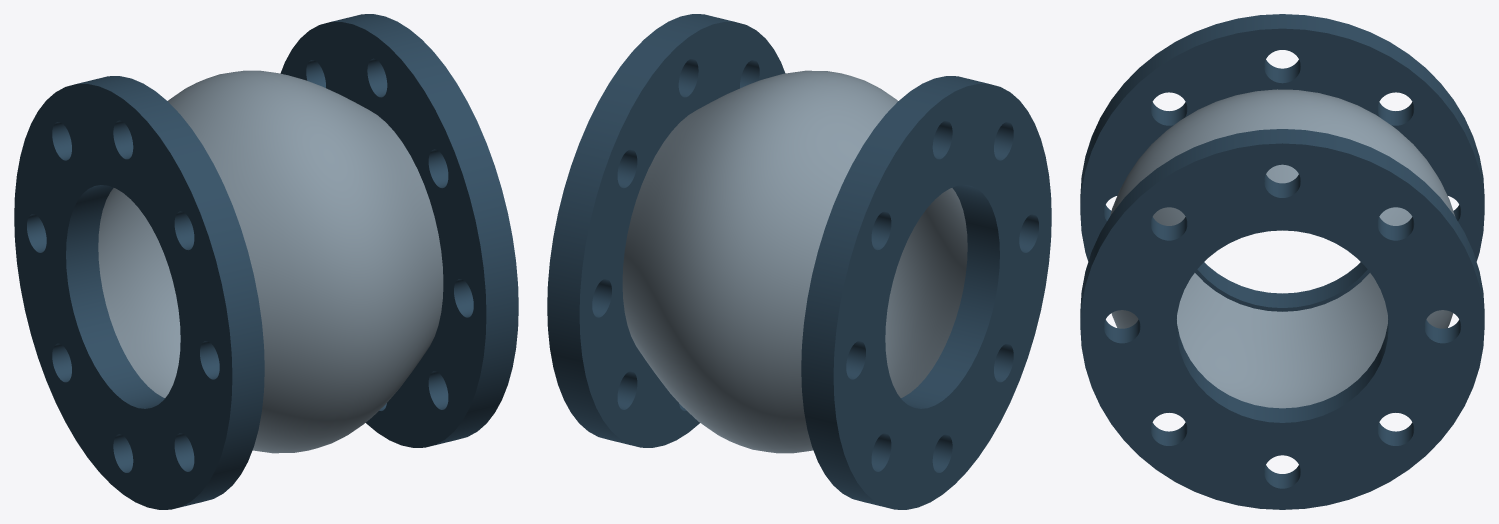
The picture shows the model from 3 angles, left to right: view 1: azimuth 30°, elevation 25°; view 2: azimuth 150°, elevation 25°; view 3: azimuth 270°, elevation 25°; orthographic projection. The views are drawn at different scales.
Visible parts, largest first — view 1: rebro_vstavka_rezina, homut_flanec_1, homut_flanec_2; view 2: rebro_vstavka_rezina, homut_flanec_1, homut_flanec_2; view 3: homut_flanec_2, homut_flanec_1, rebro_vstavka_rezina.
Part boxes in pixels (x1,y1,x2,y2): rebro_vstavka_rezina: (98,70,443,453); homut_flanec_1: (14,76,264,509); homut_flanec_2: (280,14,518,447); rebro_vstavka_rezina: (622,70,967,453); homut_flanec_1: (801,76,1051,509); homut_flanec_2: (547,14,785,447); homut_flanec_2: (1080,129,1484,509); homut_flanec_1: (1080,14,1484,311); rebro_vstavka_rezina: (1110,89,1455,408).
Size of the model in its own units: 150 by 198 by 198.
